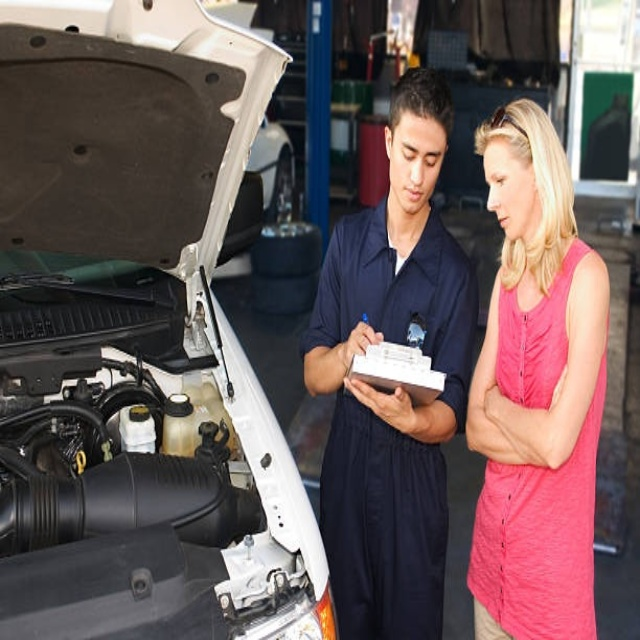Sin_gafas: (396, 136, 440, 174), (482, 160, 523, 191)
Sin_guantes: (344, 378, 414, 432), (348, 317, 386, 356)
Sin_mascara: (398, 180, 426, 215), (493, 209, 521, 238)
